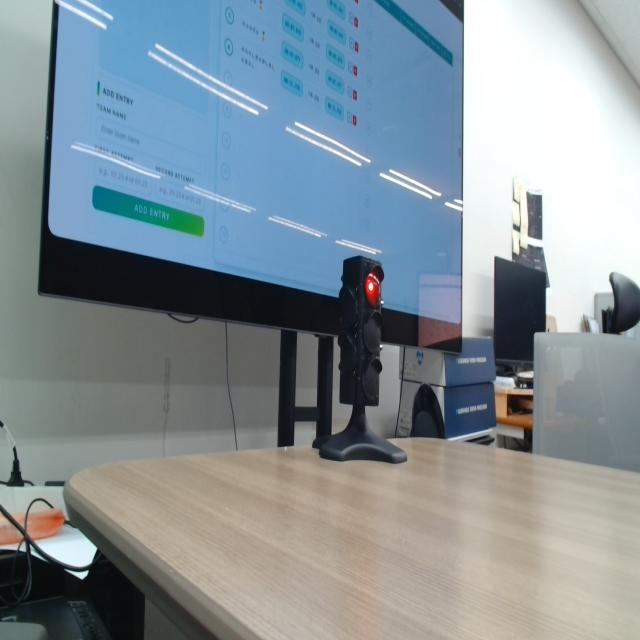red_light: (365, 272, 381, 306)
